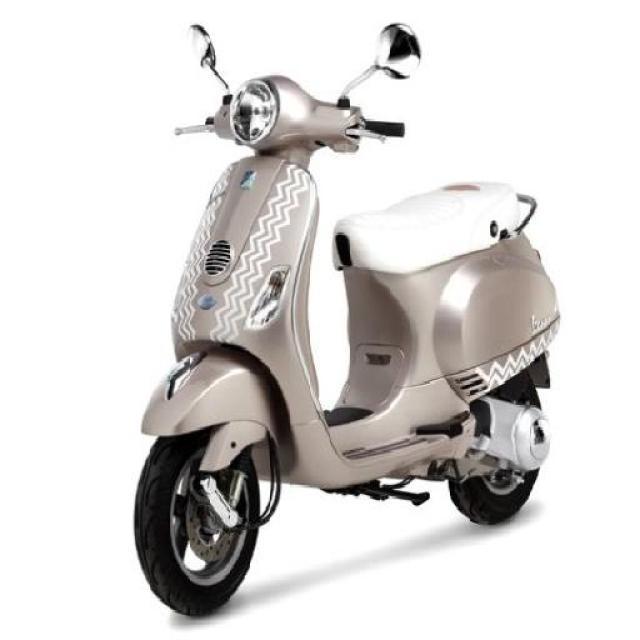All: (121, 72, 565, 618)
Head: (173, 75, 405, 158)
Tail: (468, 180, 543, 248)
